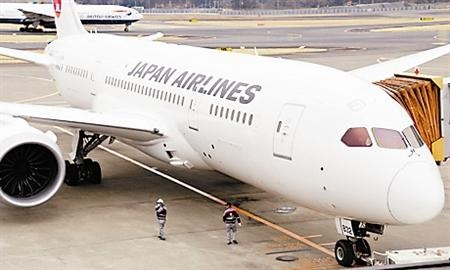airplane: (1, 1, 446, 255)
